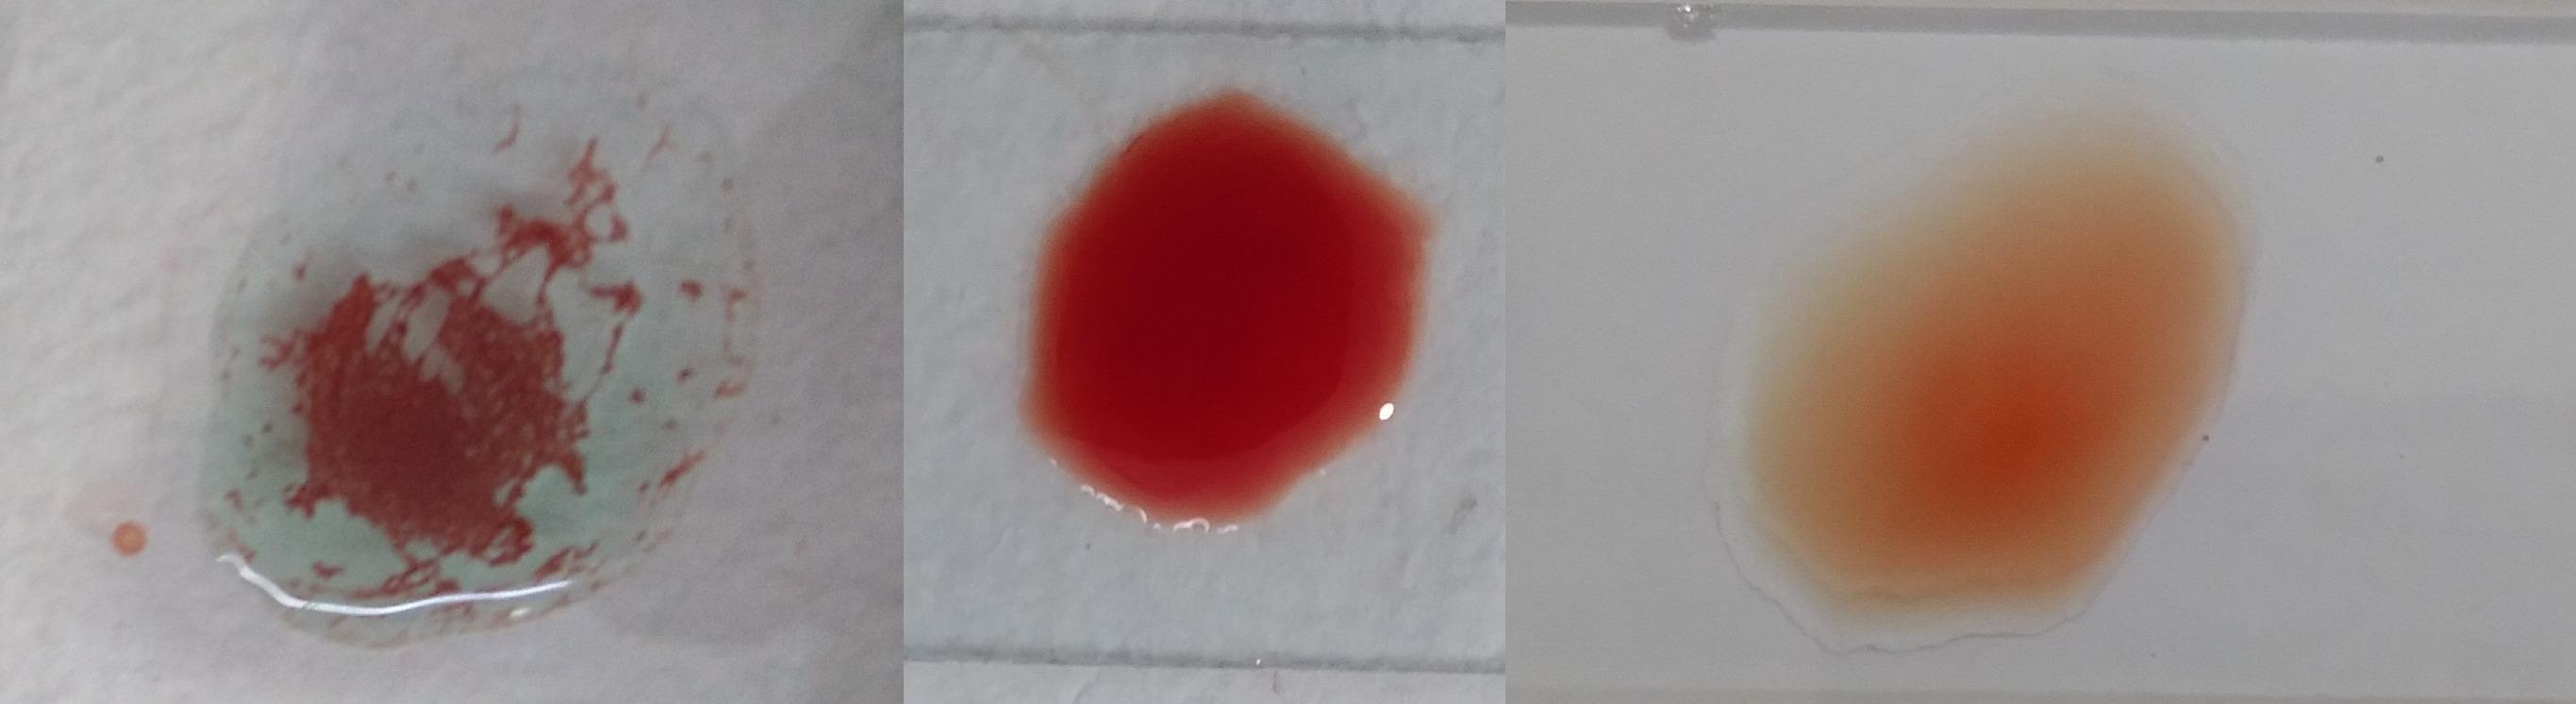A: (210, 59, 710, 653)
